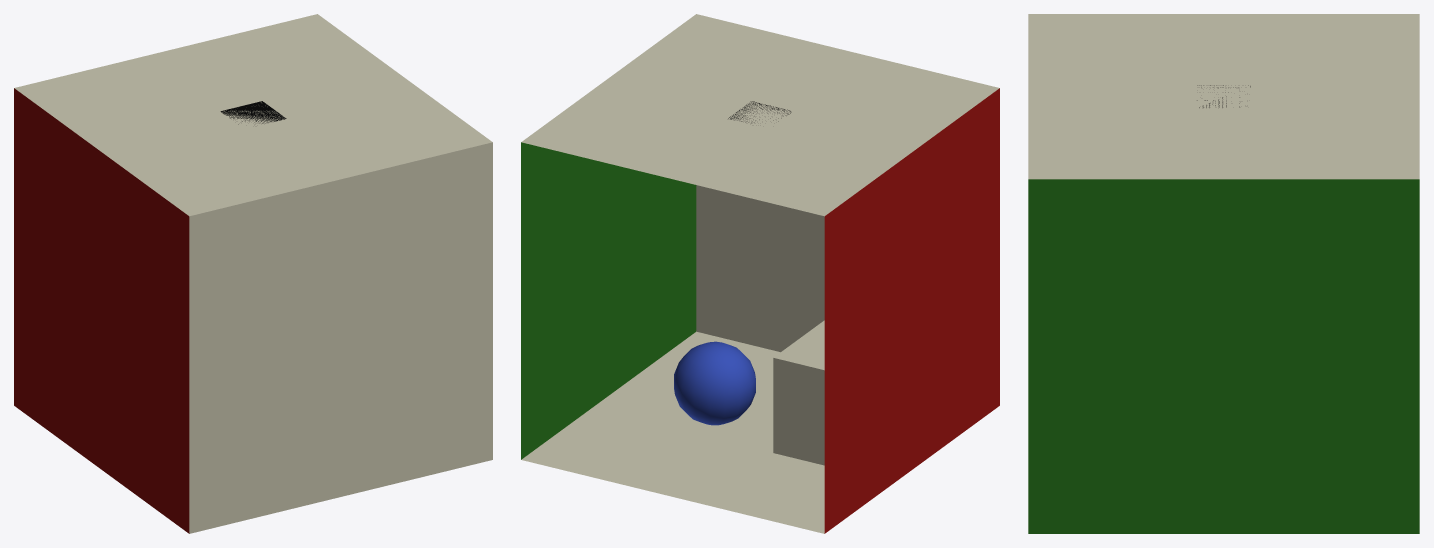
The model's file is cornell_box.obj.
3 renders of one model, left to right at view 1: azimuth 30°, elevation 25°; view 2: azimuth 150°, elevation 25°; view 3: azimuth 270°, elevation 25°, orthographic. The views are drawn at different scales.
Bounding box in the file's own units: 1 × 1 × 1.
